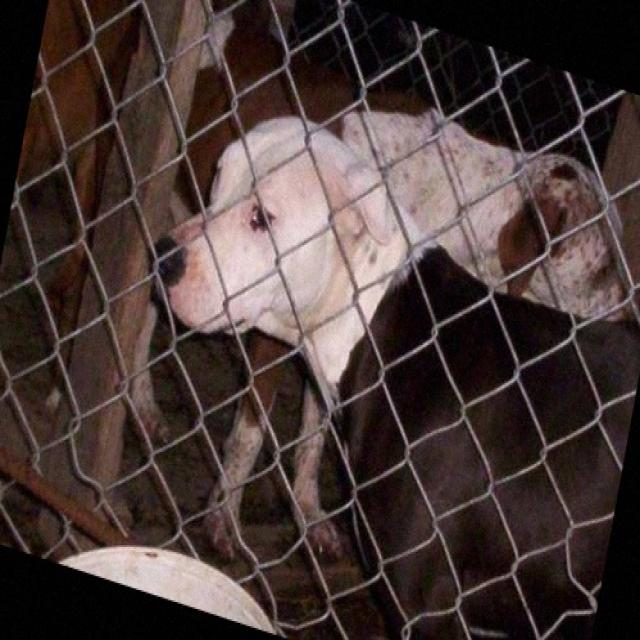sad: (136, 62, 506, 451)
